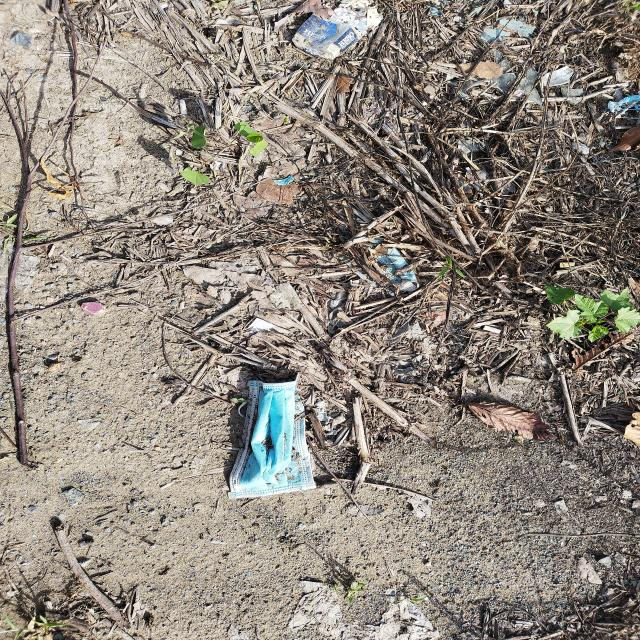mask: (224, 378, 315, 496)
packet: (291, 5, 384, 58)
